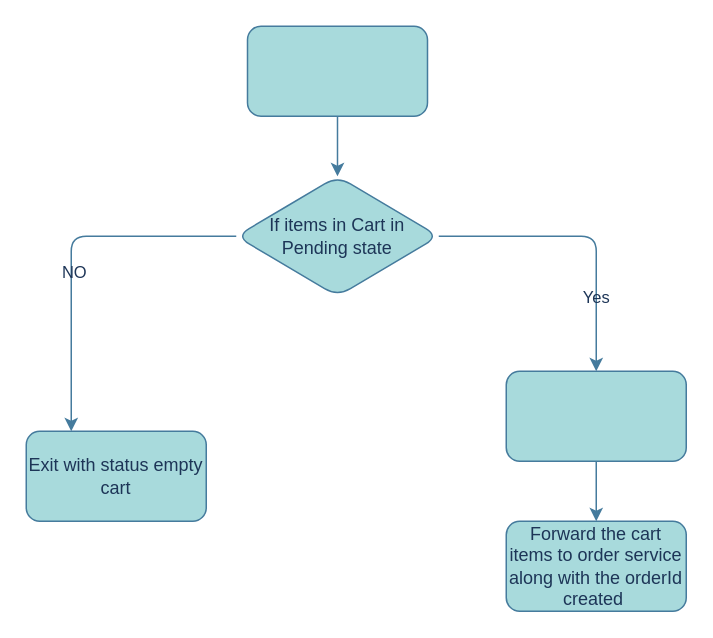
This 713x638 diagram has some shape labels left out. The centre of each missing label's shape, as x and y in pixels:
"Cart Checkout" belongs at (337,70).
"Mark the items to payment waiting" belongs at (595,415).
